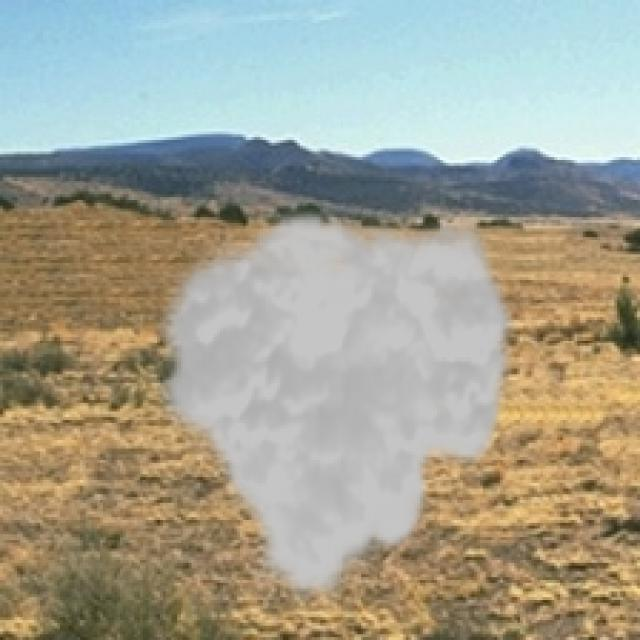smoke: (149, 206, 520, 608)
